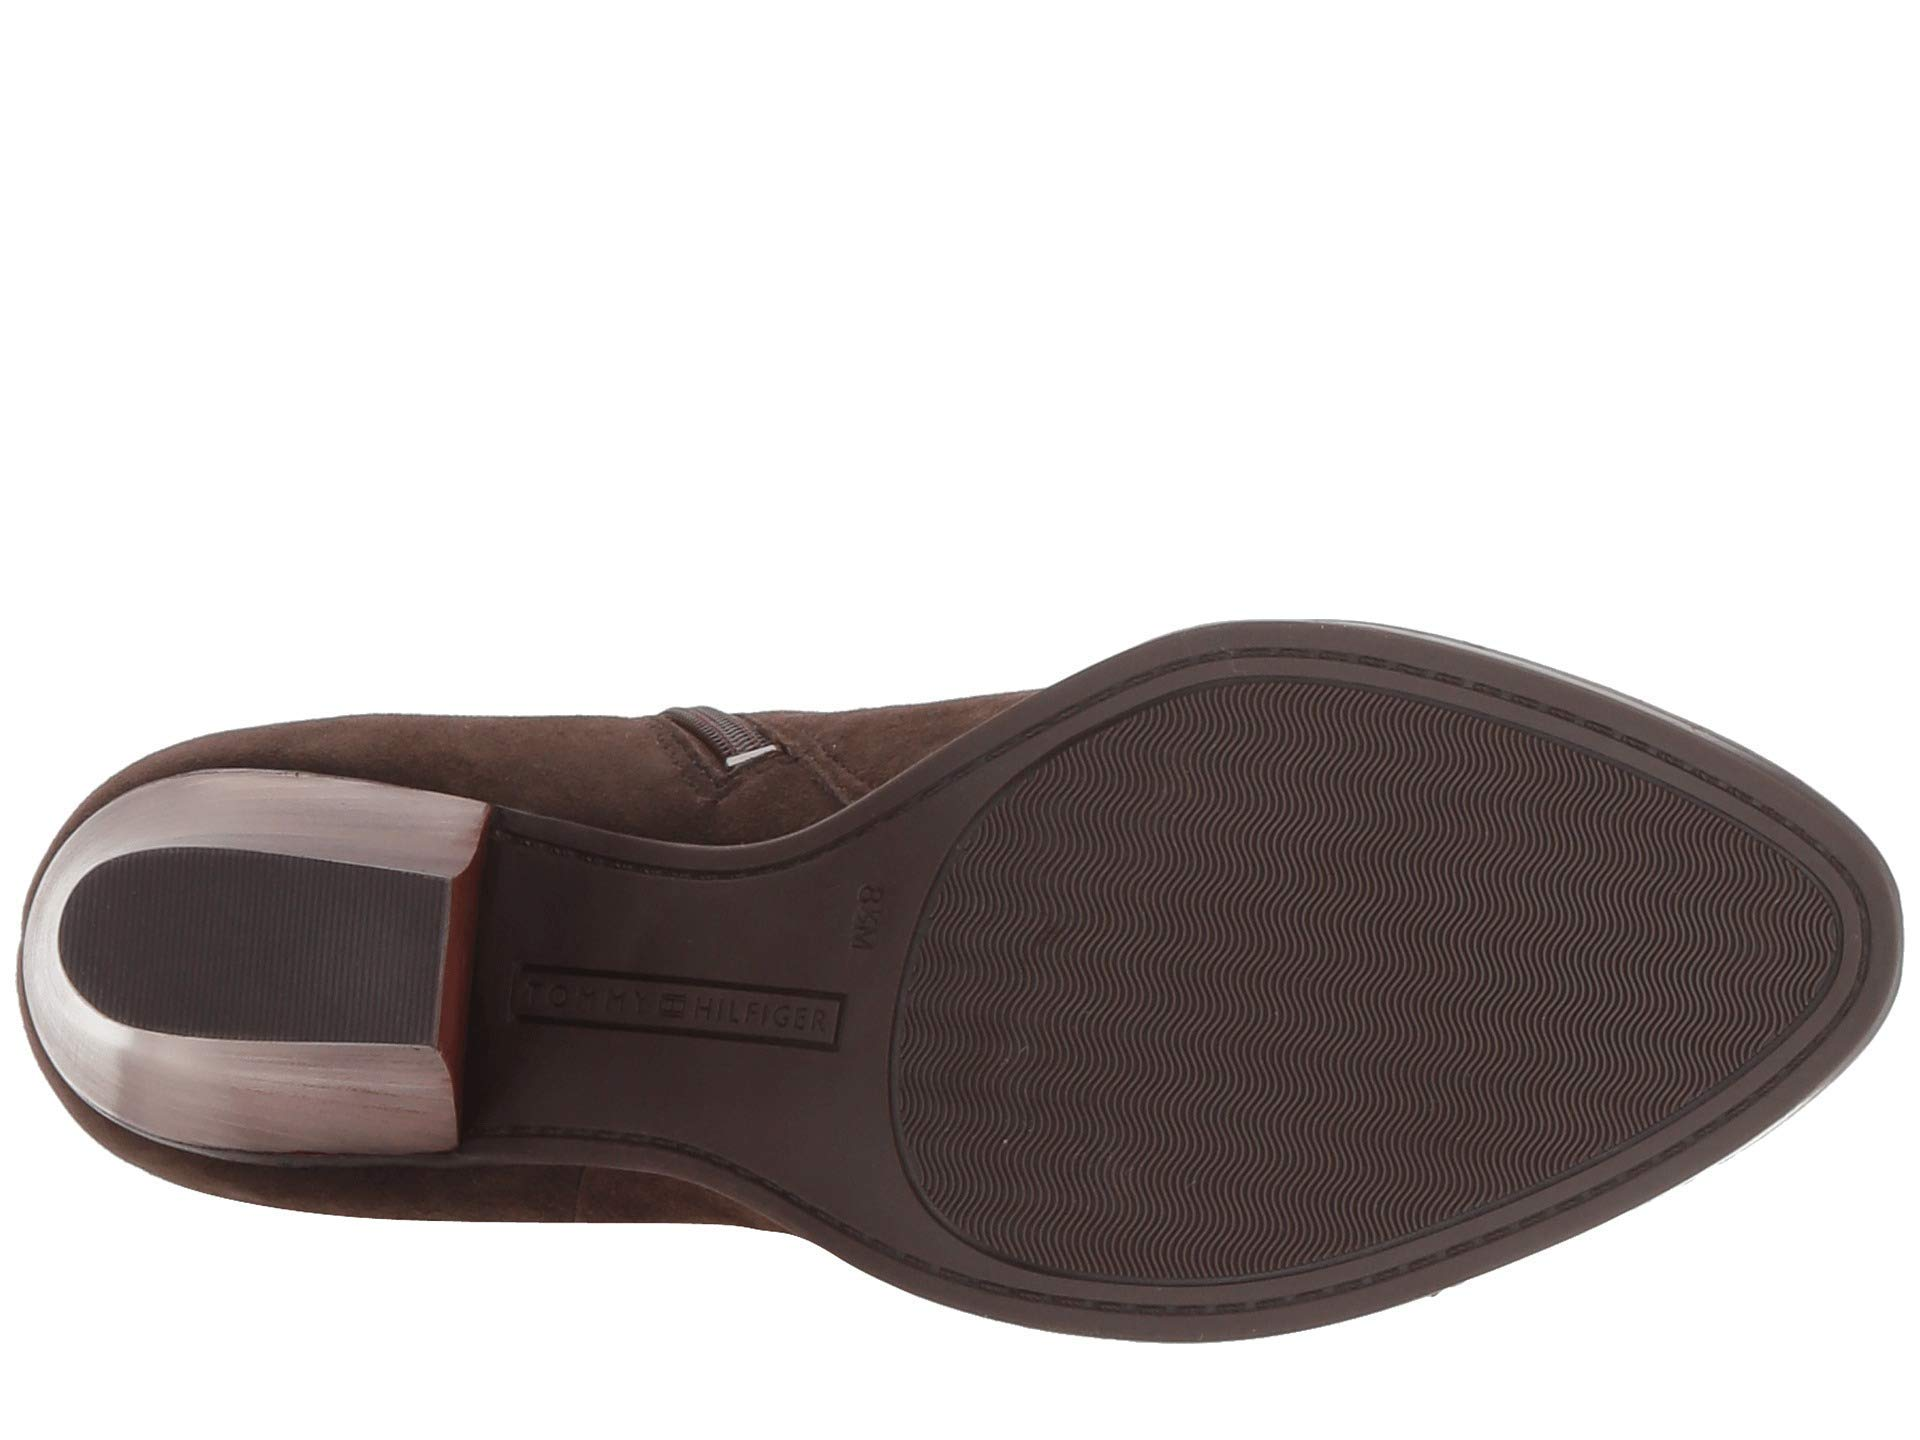chevron: (1060, 811, 1370, 1156)
